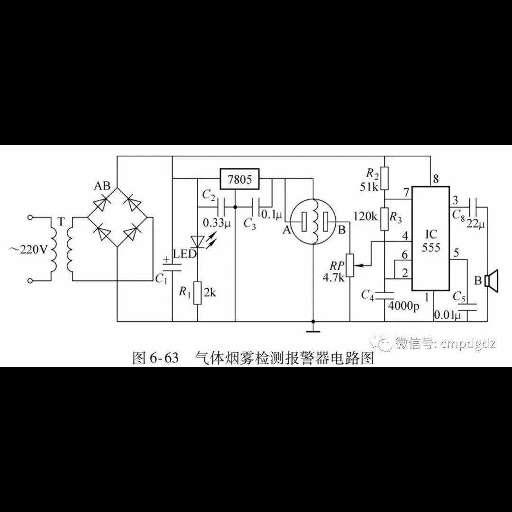capacitor: (467, 195, 481, 218), (216, 196, 229, 218), (374, 289, 396, 301), (456, 302, 479, 313), (251, 197, 262, 218)
firstpolarcapacitor: (159, 255, 184, 272)
firstresistance: (192, 278, 204, 309), (379, 205, 390, 235), (380, 164, 391, 193)
loudspeaker: (483, 268, 500, 293)
rectifierbridge: (87, 188, 148, 248)
secondled: (189, 229, 220, 249)
transformer: (47, 224, 76, 281)
